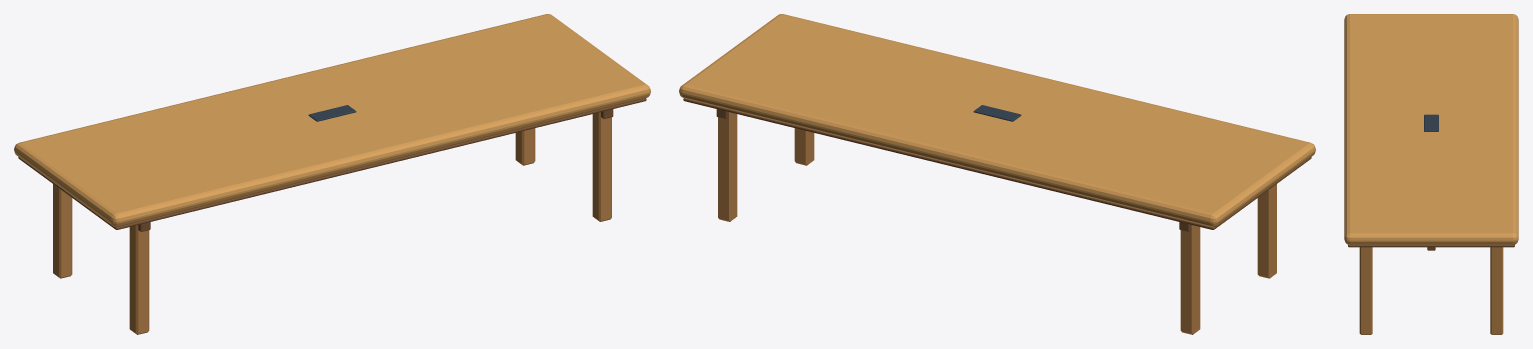
File: table_training.glb
3 renders of one model, left to right at view 1: azimuth 30°, elevation 25°; view 2: azimuth 150°, elevation 25°; view 3: azimuth 270°, elevation 25°, orthographic. The views are drawn at different scales.
Visible parts, largest first — view 1: table_training__oak_top, table_training__oak, table_training__oak_dark; view 2: table_training__oak_top, table_training__oak, table_training__oak_dark; view 3: table_training__oak_top, table_training__oak, table_training__oak_dark, table_training__metal.
Part boxes in pixels (x1,y1,x2,y2): table_training__oak_top: (14,14,650,226); table_training__oak: (53,112,611,334); table_training__oak_dark: (18,98,646,231); table_training__oak_top: (679,14,1315,226); table_training__oak: (718,112,1276,334); table_training__oak_dark: (683,98,1311,231); table_training__oak_top: (1344,14,1518,244); table_training__oak: (1359,247,1503,334); table_training__oak_dark: (1348,244,1514,250); table_training__metal: (1424,114,1438,131).
Bounding box in the file's own units: 3.4 × 0.81 × 1.12.
